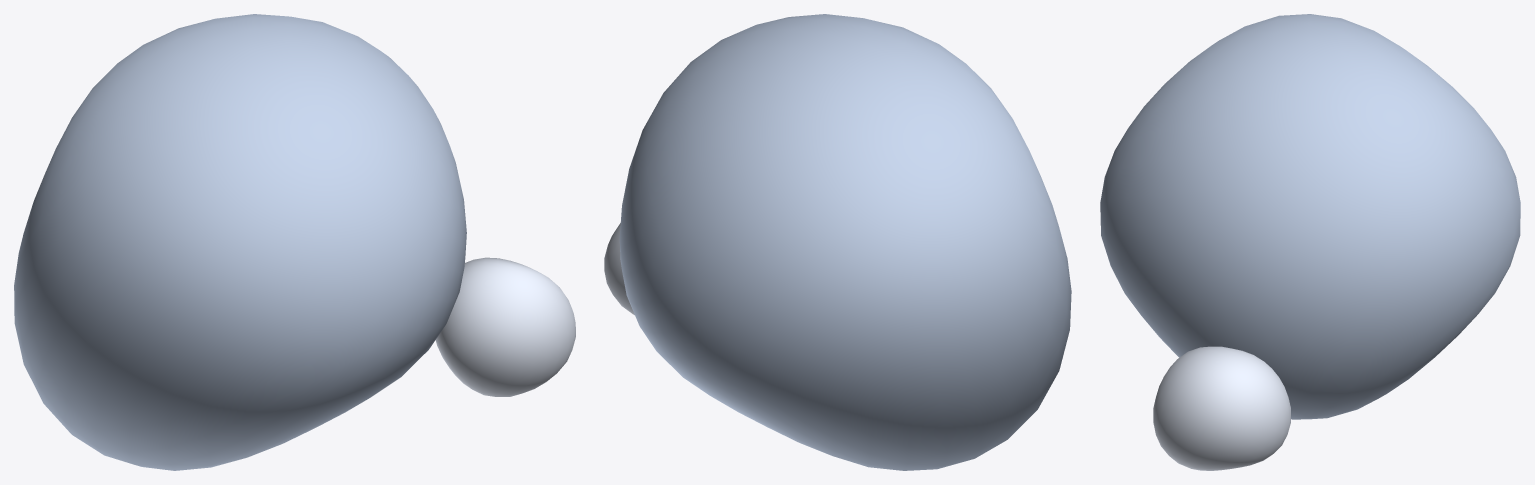
File: blob-silver.glb
The picture shows the model from 3 angles, left to right: view 1: azimuth 30°, elevation 25°; view 2: azimuth 150°, elevation 25°; view 3: azimuth 270°, elevation 25°; orthographic projection. The views are drawn at different scales.
Visible parts, largest first — view 1: blob, droplet; view 2: blob, droplet; view 3: blob, droplet.
Part boxes in pixels (<box>): blob: <box>14,14,466,470</box>; droplet: <box>435,257,575,396</box>; blob: <box>619,14,1071,470</box>; droplet: <box>604,223,634,315</box>; blob: <box>1100,14,1520,419</box>; droplet: <box>1153,346,1290,470</box>.
Size of the model in its own units: 1.73 by 1.4 by 1.43.
